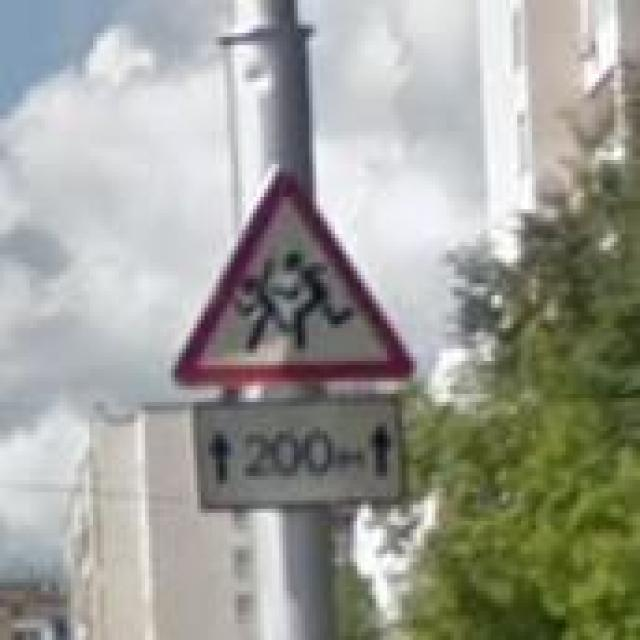traffic_sign: (171, 168, 417, 382)
